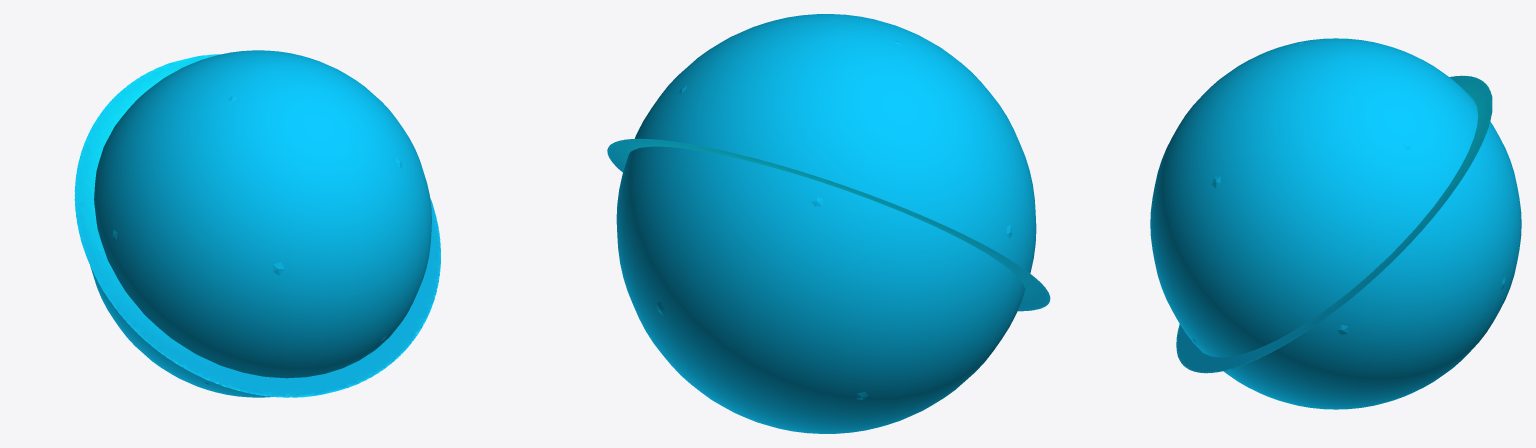
The model's file is DefaultBall.fbx.
3 views of the same model, side by side, from view 1: azimuth 30°, elevation 25°; view 2: azimuth 150°, elevation 25°; view 3: azimuth 270°, elevation 25° (orthographic). The views are drawn at different scales.
Parts seen in each view (by area): view 1: BallGeo_HighPoly, ball_frag; view 2: BallGeo_HighPoly, ball_frag; view 3: BallGeo_HighPoly, ball_frag.
Boxes of the visible parts, <box> form: BallGeo_HighPoly: <box>90,50,431,397</box>; ball_frag: <box>74,54,440,397</box>; BallGeo_HighPoly: <box>616,14,1036,433</box>; ball_frag: <box>607,138,1050,311</box>; BallGeo_HighPoly: <box>1150,38,1521,409</box>; ball_frag: <box>1176,75,1492,373</box>.
Bounding box in the file's own units: 0.9 × 0.8 × 0.8.
2 materials, 1 textured.
